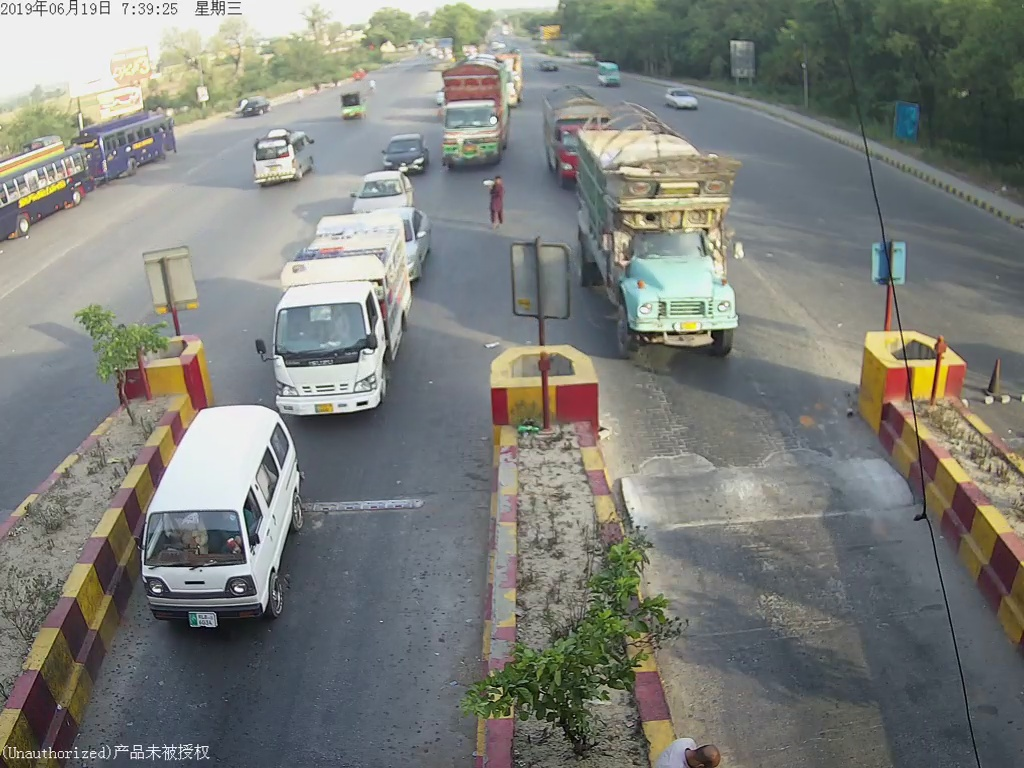Cat-1: (141, 401, 297, 625), (382, 131, 429, 176)
Cat-2: (266, 211, 414, 426)
Cat-4: (586, 104, 746, 360), (440, 53, 512, 168), (536, 86, 591, 182)
